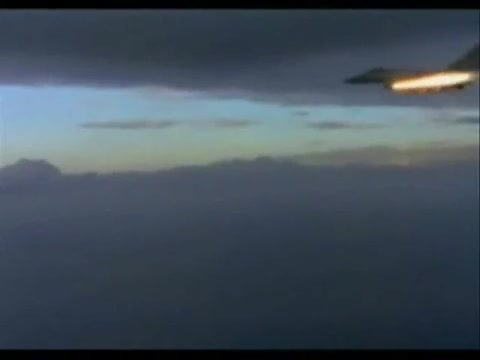aeroplane: (346, 39, 480, 96)
